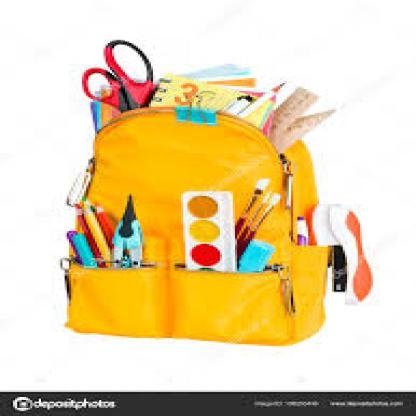morral: (39, 30, 375, 354)
